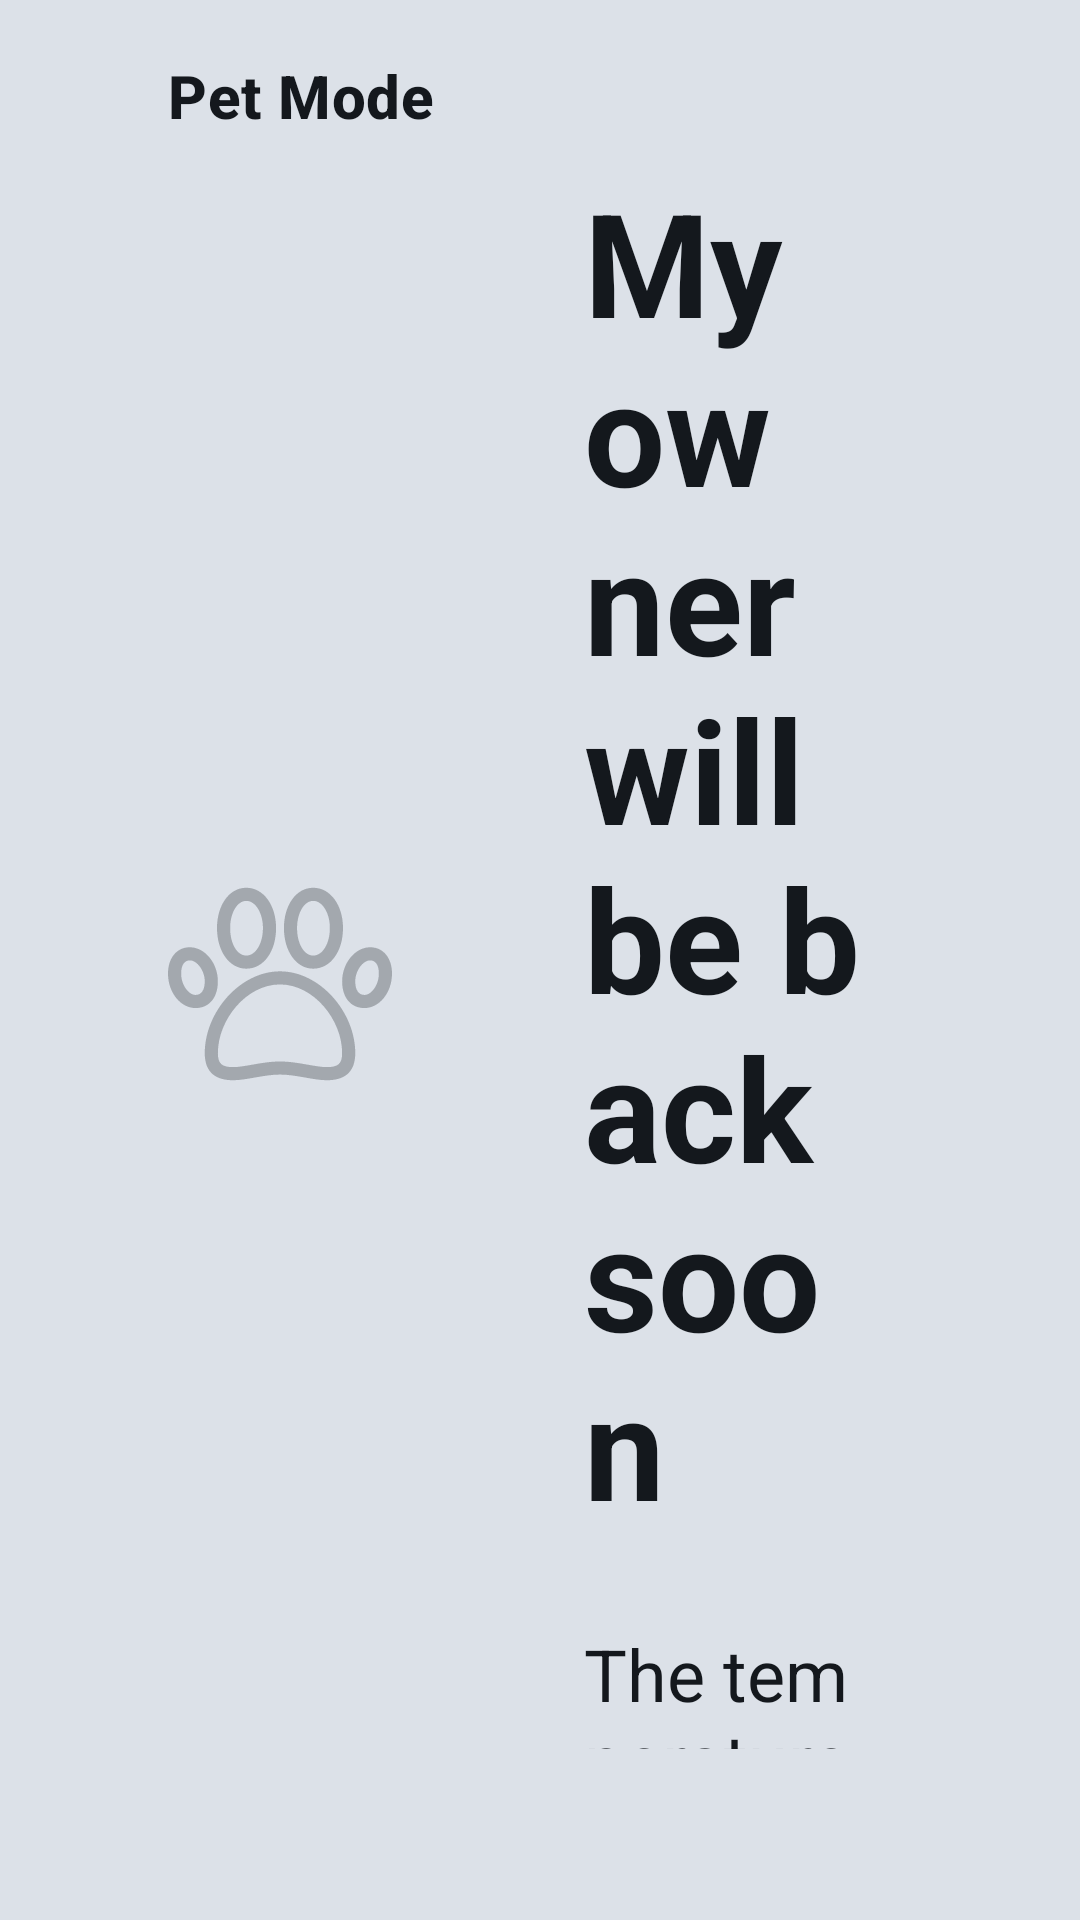

Screen size 1080 x 1920. Icon name, then its center in pixels as (x=x, y=y):
pet paw: (x=280, y=984)
